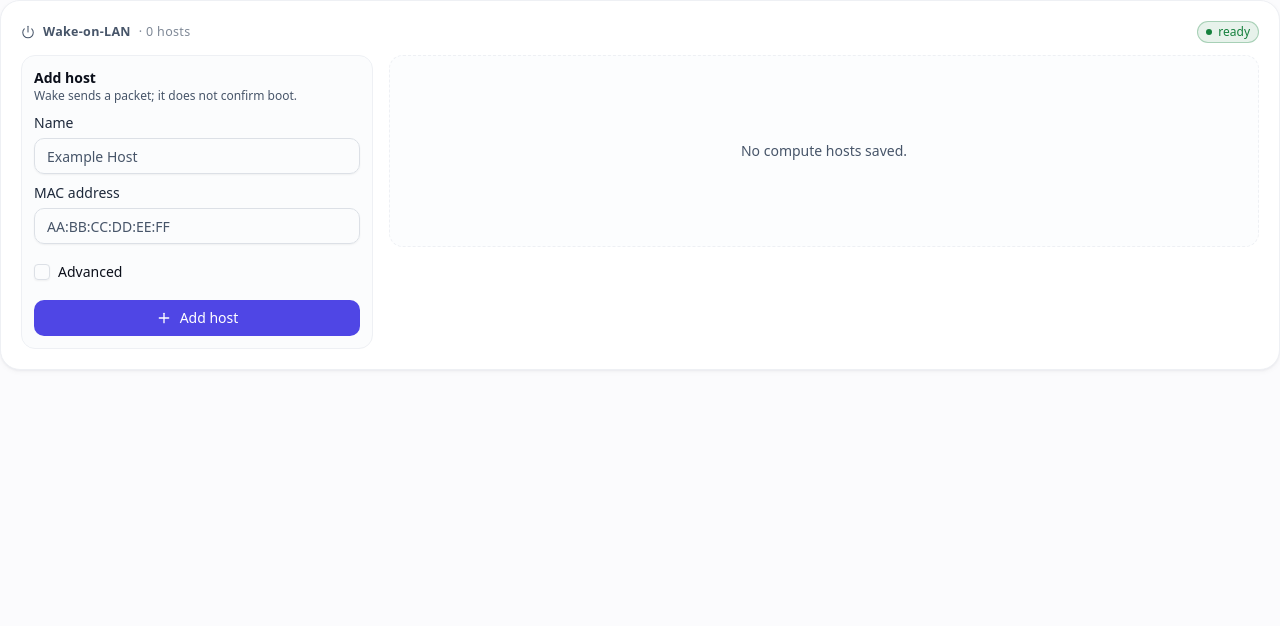
Test: ComputeWakeCard › warns that host IP targets can fail after router cache expiry
Click the checkbox named "Advanced": (42, 272) top-left (34, 264), bottom-right (50, 280)
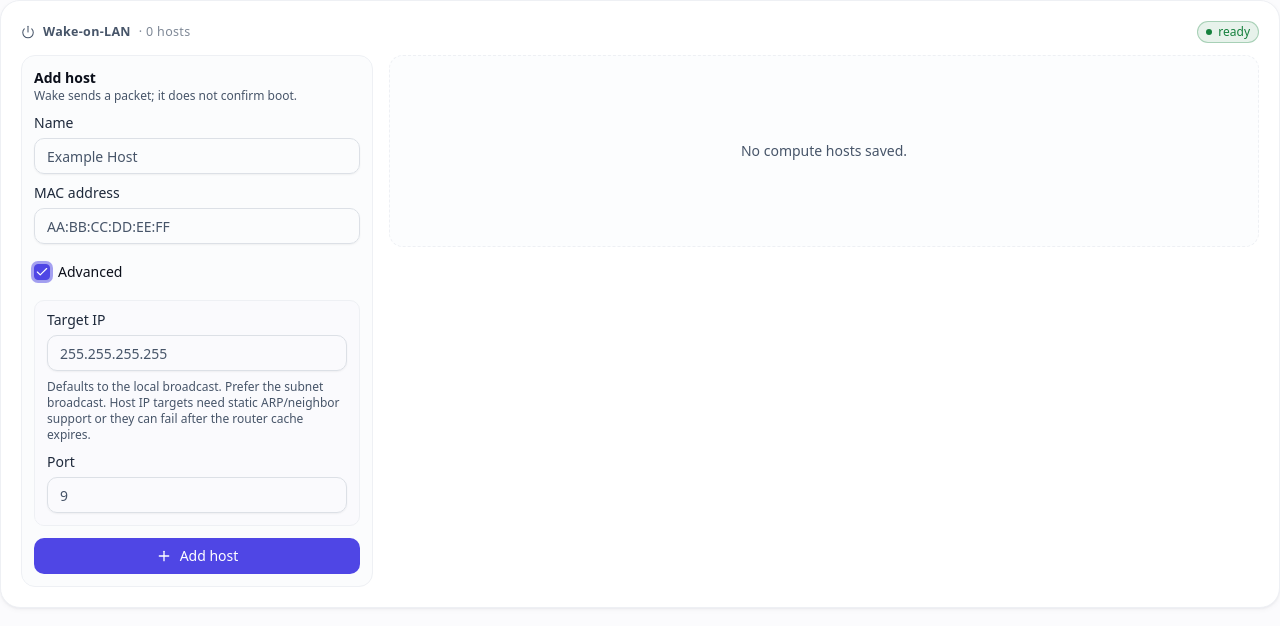
Result: the text "Host IP targets need static ARP/neighbor support" is shown at top-left (47, 378), bottom-right (340, 443)
